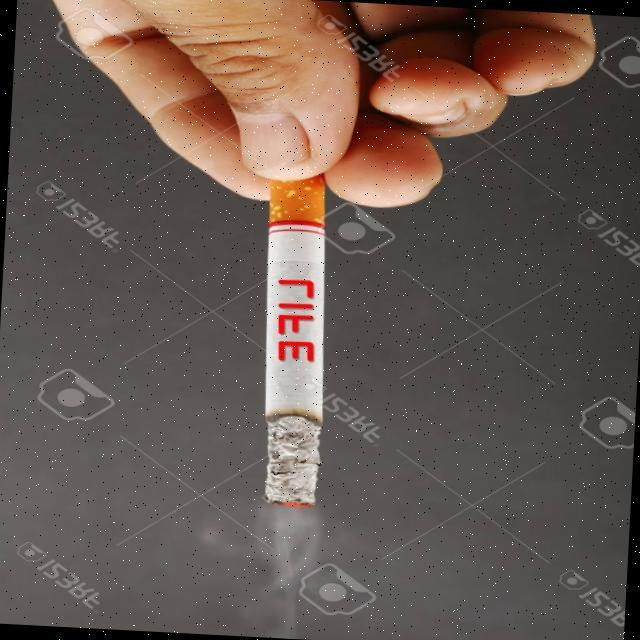cigarette: (253, 170, 327, 510)
